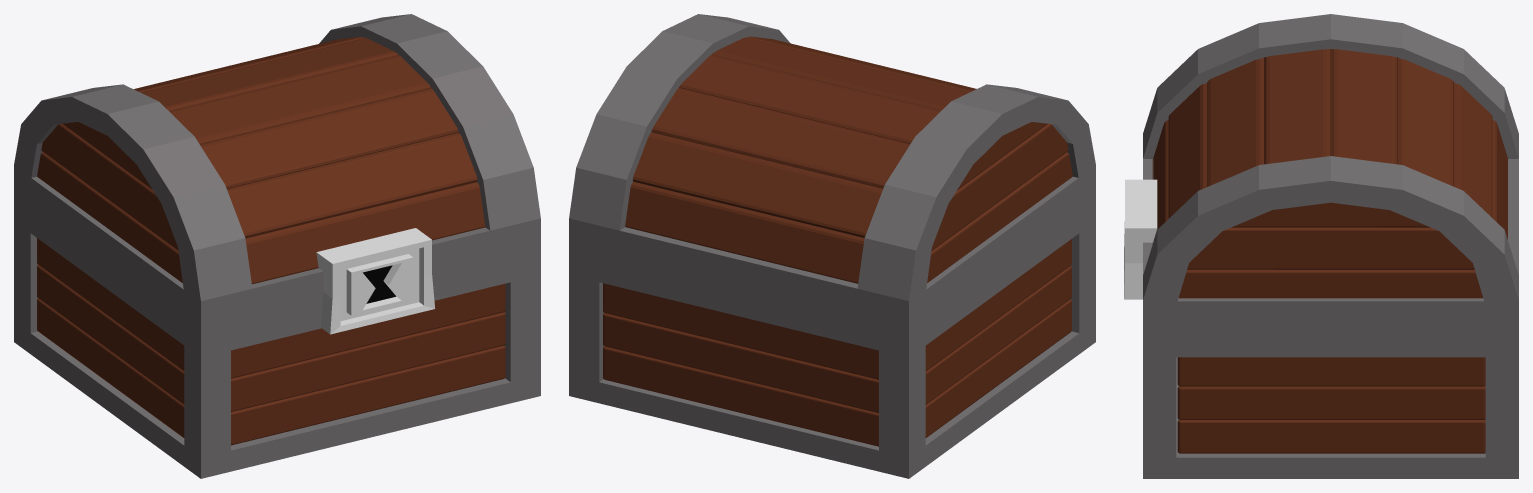
Rendered from Cofre.fbx.
The picture shows the model from 3 angles, left to right: view 1: azimuth 30°, elevation 25°; view 2: azimuth 150°, elevation 25°; view 3: azimuth 270°, elevation 25°; orthographic projection.
Visible parts, largest first — view 1: Cylinder; view 2: Cylinder; view 3: Cylinder.
Part boxes in pixels (<box>): Cylinder: <box>14,14,540,478</box>; Cylinder: <box>569,14,1095,478</box>; Cylinder: <box>1124,14,1518,478</box>.
Bounding box in the file's own units: 60 × 50 × 60.
